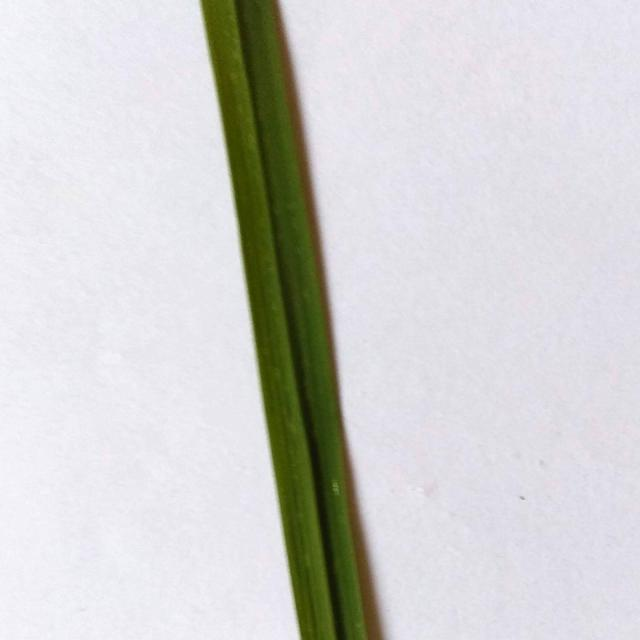healthy: (176, 0, 460, 640)
